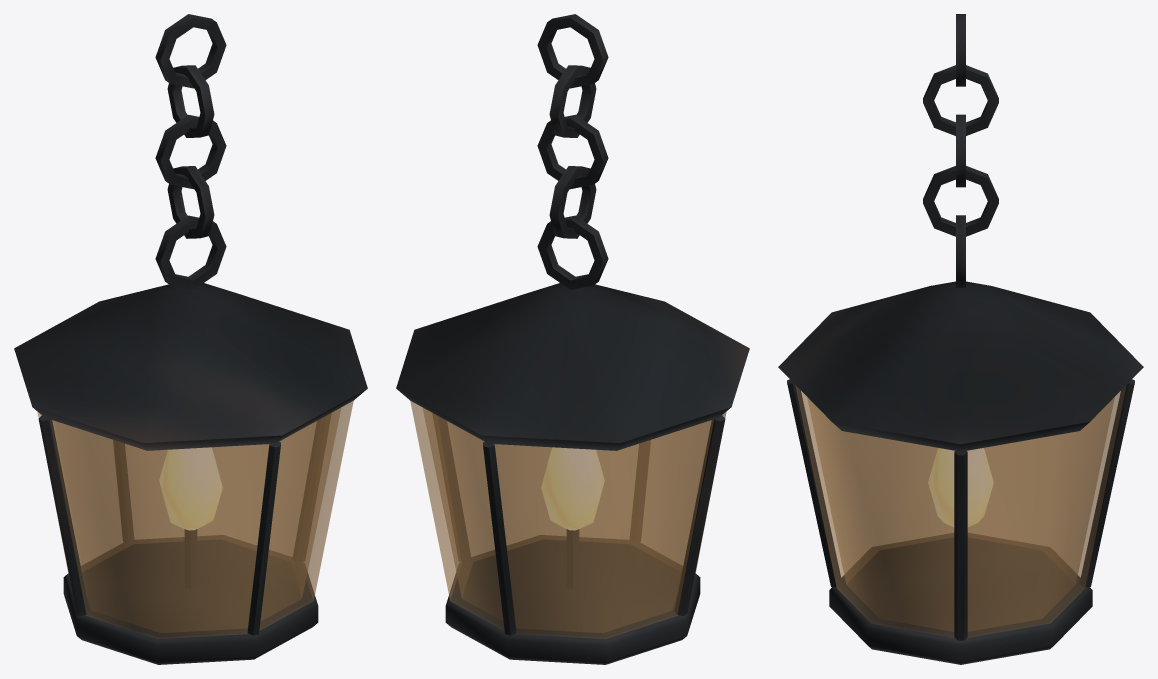
Rendered from Furn_Ceil_HangingLamp.fbx.
3 views of the same model, side by side, from view 1: azimuth 30°, elevation 25°; view 2: azimuth 150°, elevation 25°; view 3: azimuth 270°, elevation 25° (orthographic).
Parts seen in each view (by area): view 1: Furn_Ceil_HangingLamp; view 2: Furn_Ceil_HangingLamp; view 3: Furn_Ceil_HangingLamp.
Part boxes in pixels (x1,y1,x2,y2): Furn_Ceil_HangingLamp: (14,14,367,664); Furn_Ceil_HangingLamp: (396,14,749,664); Furn_Ceil_HangingLamp: (778,14,1143,664).
Bounding box in the file's own units: 0.5 × 0.9 × 0.5.
3 materials, 1 textured.
